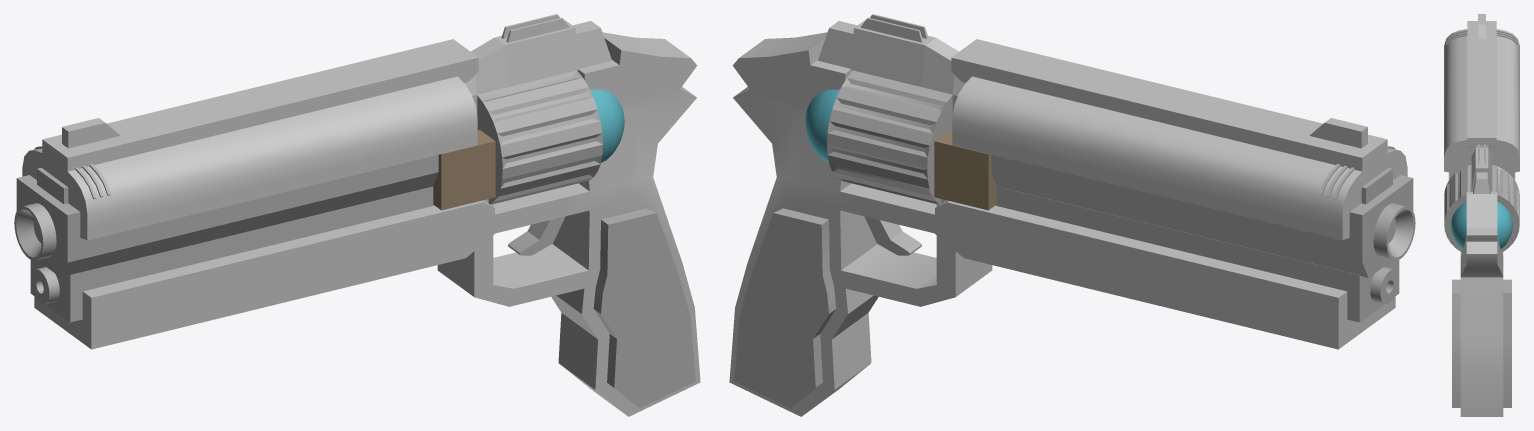
File: gunWhite2.fbx
3 views of the same model, side by side, from view 1: azimuth 30°, elevation 25°; view 2: azimuth 150°, elevation 25°; view 3: azimuth 270°, elevation 25° (orthographic). The views are drawn at different scales.
Parts seen in each view (by area): view 1: Cube.003; view 2: Cube.003; view 3: Cube.003.
Boxes of the visible parts, x1,y1,x2,y2 form: Cube.003: (14, 14, 700, 416); Cube.003: (729, 14, 1415, 416); Cube.003: (1444, 14, 1519, 416).
Size of the model in its own units: 16 by 9.5 by 2.75.
